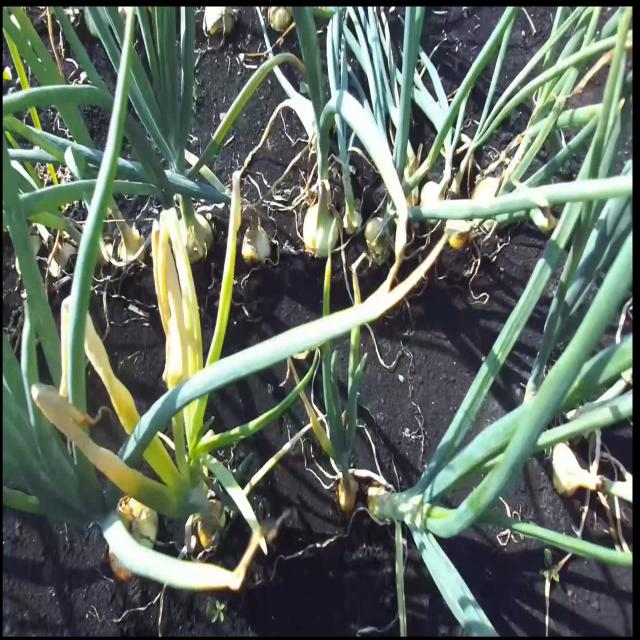onion: (170, 206, 212, 270), (552, 439, 584, 503), (303, 202, 338, 260), (240, 220, 270, 268), (366, 217, 390, 262), (334, 477, 357, 517), (370, 481, 388, 524)
